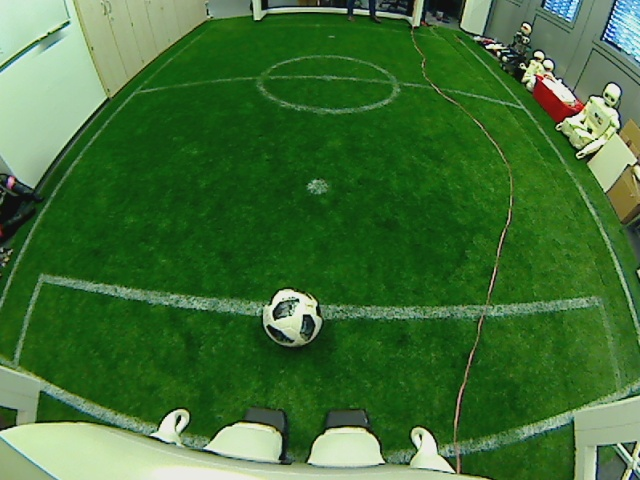ball: (259, 286, 325, 351)
